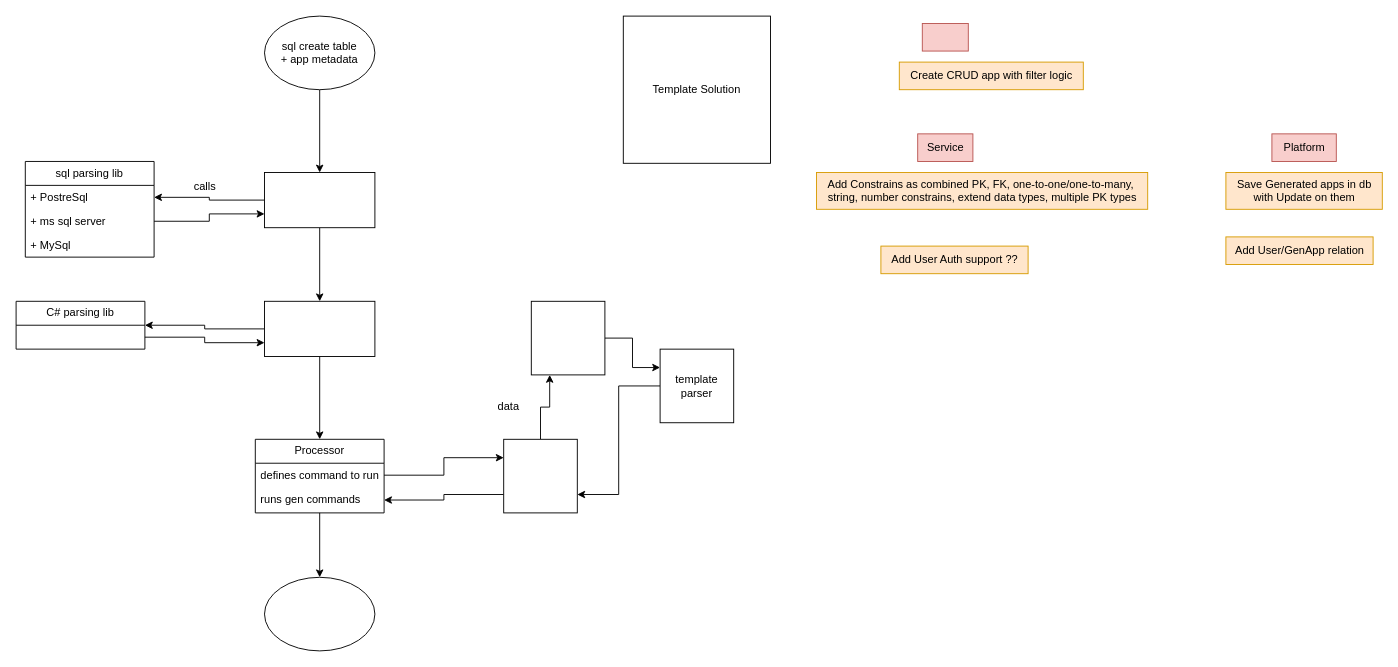
Image size: 1398x667. Some labels were removed from this diagram. The box of each missing label's shape, as (x1, y1, x2, y2) in pixels:
Commands: (503, 438, 577, 513)
convert sql data to C# data: (264, 300, 375, 356)
MVP: (921, 23, 968, 51)
returns zip archive: (264, 576, 375, 651)
sql script parsing: (264, 172, 375, 228)
Templates: (530, 300, 605, 375)
